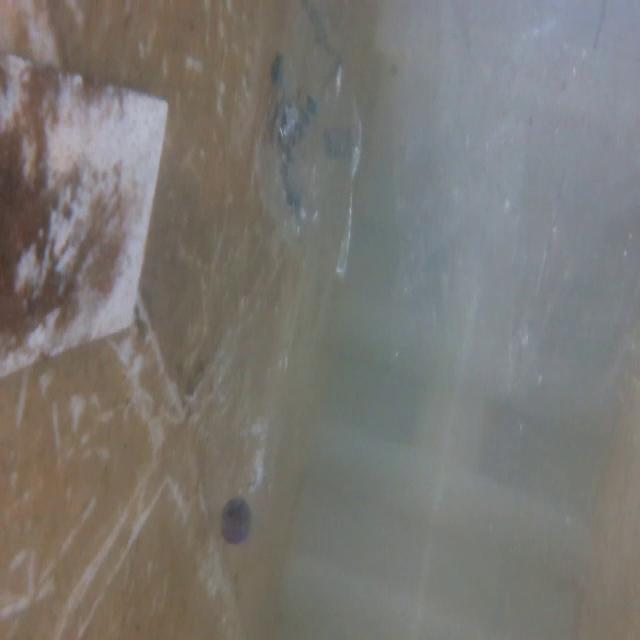metal: (0, 49, 174, 376)
plastic bags: (385, 0, 640, 443), (248, 1, 360, 290)
plastic bottle: (202, 290, 305, 545)
